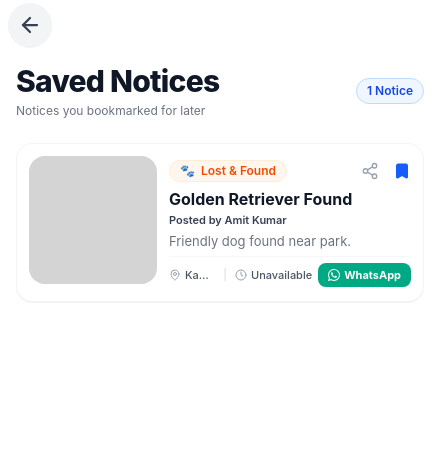
Test: Saved Notices Page › removes notice from list when bookmark is toggled to unsave
Expected: the heading "Golden Retriever Found" is shown, [169,189,352,209]
// Click remove from saved
Click the button named "Remove from saved". click: [402, 171]
box: [389,158,415,184]
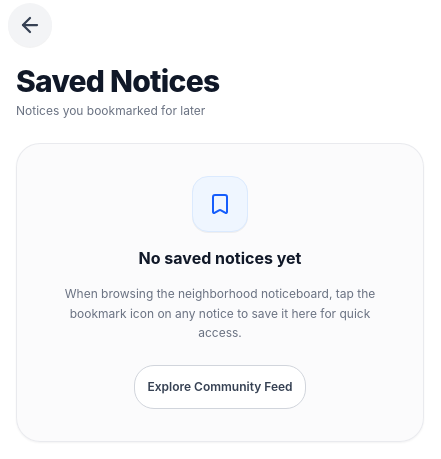
Result: the link "Golden Retriever Found" is gone
Result: the heading "No saved notices yet" is shown at [138,248,301,268]
